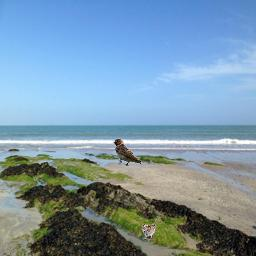Sparrow: (142, 215, 160, 241)
Swallow: (113, 138, 143, 166)
